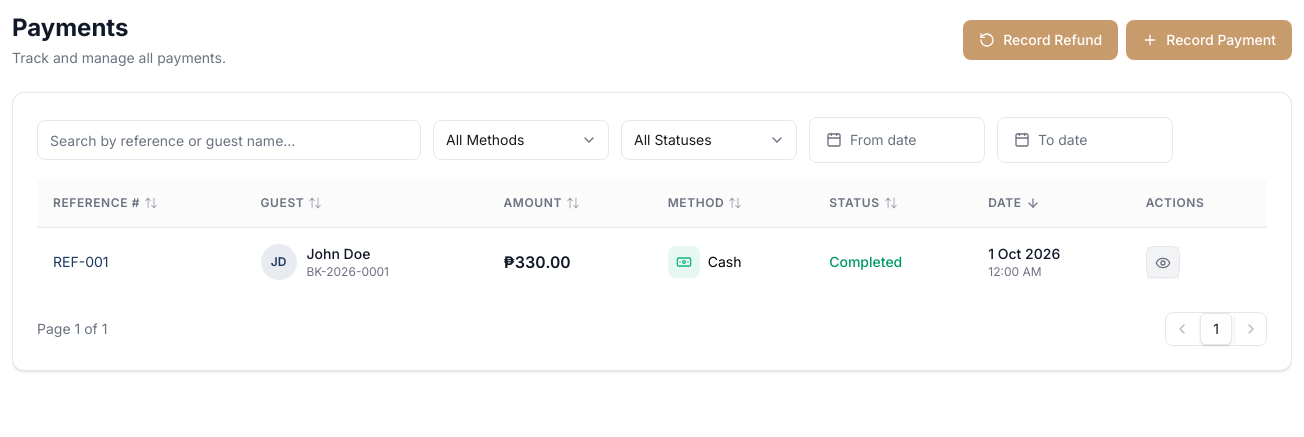
Scenario: PaymentsPage › shows active filter bar with clear all after filtering
Select "Cash" in the 1st dropdown at [521, 140], box [433,120,609,160]
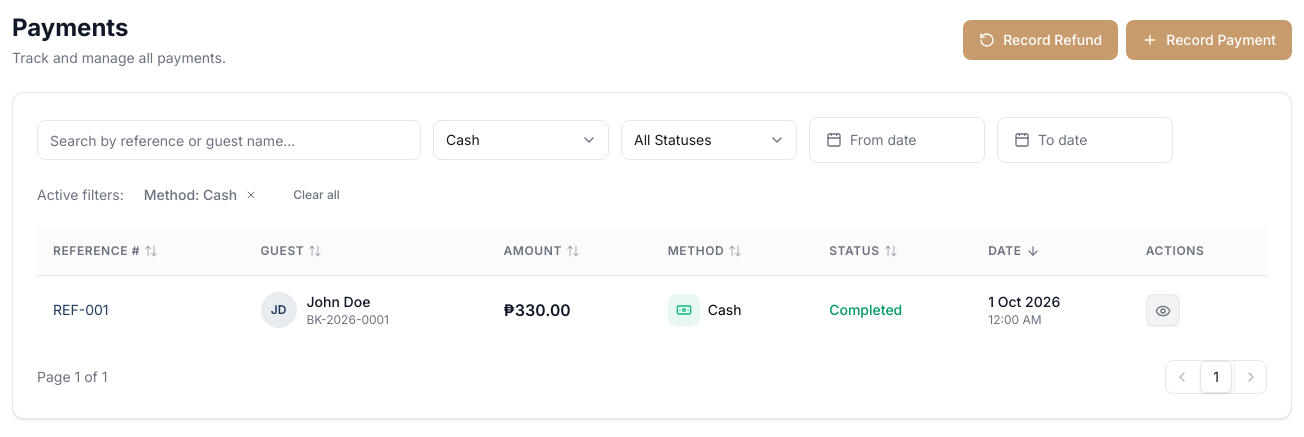
Expected: the text "Active filters:" is shown, [37,185,124,205]
Expected: the text "Method: Cash" is shown, [144,185,261,205]
Expected: the button "Clear all" is shown, [281,179,352,211]
